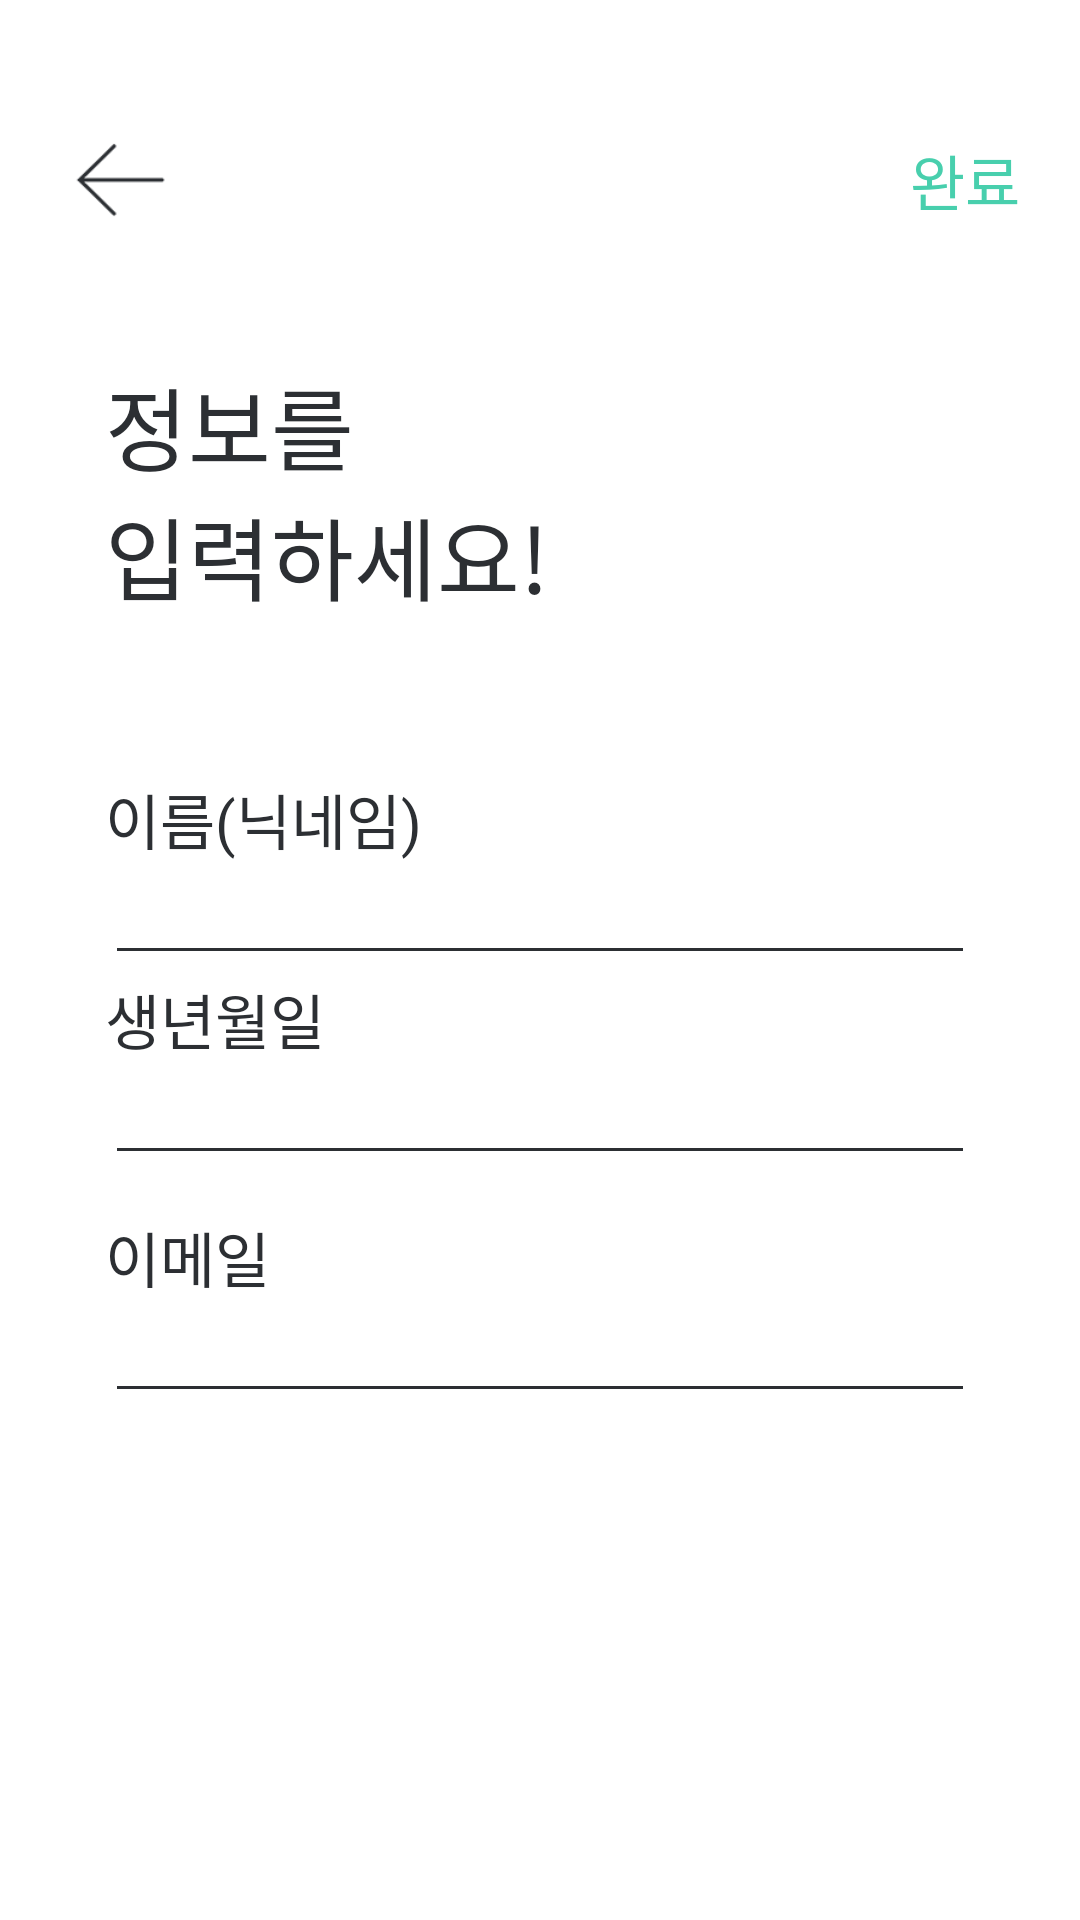

Icons on this 1080px×1920px Android screen, each with the point to tap as (x,y):
back arrow: (121,180)
